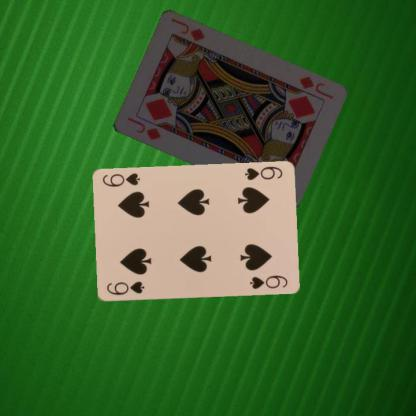6s: (104, 278, 146, 297), (242, 164, 284, 182)
Jd: (297, 73, 334, 101), (124, 114, 162, 141)
